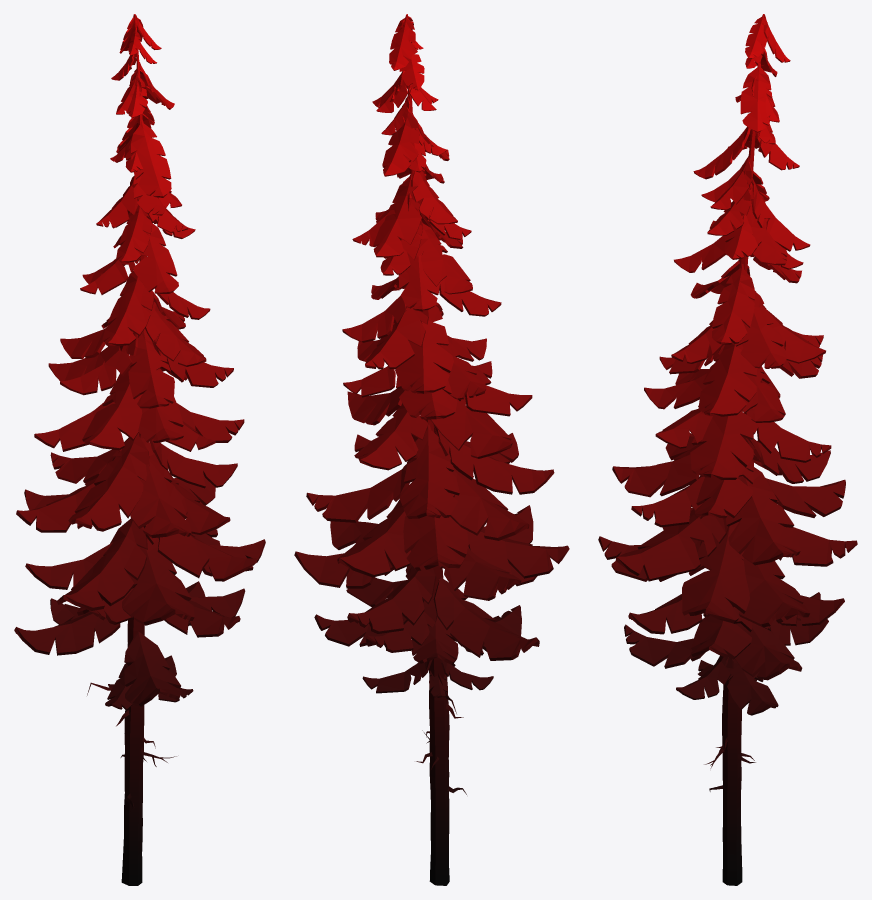
The model's file is TreeSpruceTall06.fbx.
3 views of the same model, side by side, from view 1: azimuth 30°, elevation 25°; view 2: azimuth 150°, elevation 25°; view 3: azimuth 270°, elevation 25° (orthographic). The views are drawn at different scales.
Visible parts, largest first — view 1: TreeSpruceTall06_LOD0; view 2: TreeSpruceTall06_LOD0; view 3: TreeSpruceTall06_LOD0.
Boxes of the visible parts, left/top/right/bottom form: TreeSpruceTall06_LOD0: left=14, top=14, right=265, bottom=885; TreeSpruceTall06_LOD0: left=294, top=14, right=569, bottom=885; TreeSpruceTall06_LOD0: left=598, top=14, right=857, bottom=885.
Size of what is drawn, in the model's own units: 447 by 1606 by 431.
